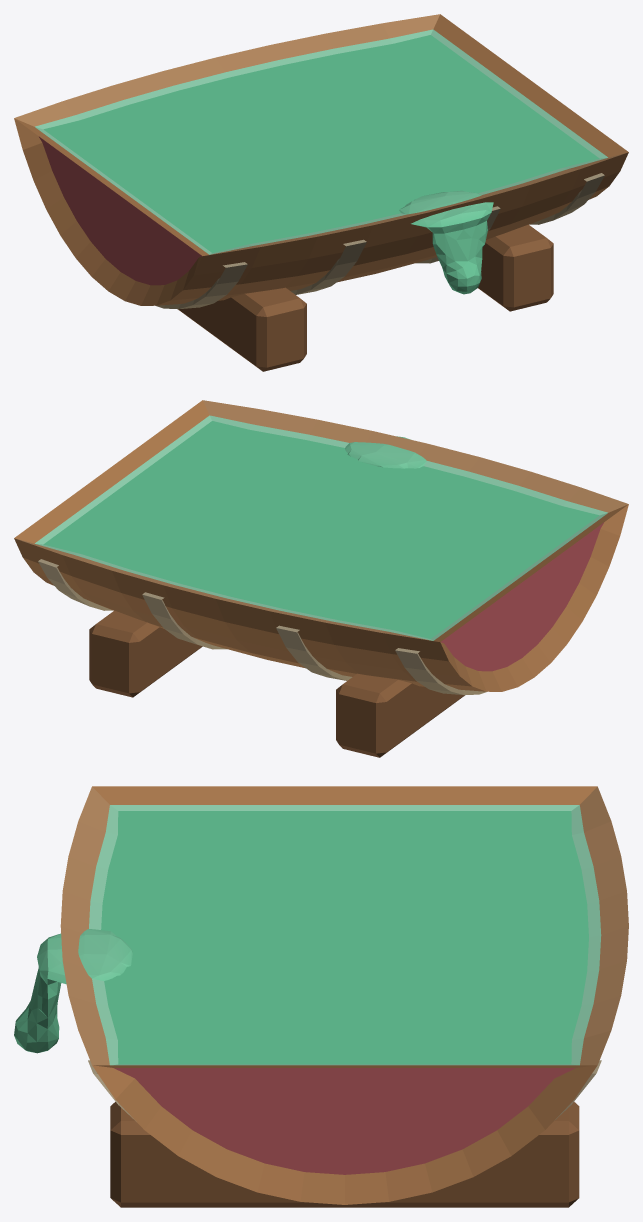
File: phoenix_pad_barrel_top.fbx
3 views of the same model, one above another, from view 1: azimuth 30°, elevation 25°; view 2: azimuth 150°, elevation 25°; view 3: azimuth 270°, elevation 25° (orthographic). The views are drawn at different scales.
Parts seen in each view (by area): view 1: phoenix_pad_barrel_top; view 2: phoenix_pad_barrel_top; view 3: phoenix_pad_barrel_top.
Part boxes in pixels (box(x1,y1,x2,y2)): phoenix_pad_barrel_top: box(14, 14, 628, 371); phoenix_pad_barrel_top: box(14, 400, 628, 757); phoenix_pad_barrel_top: box(14, 786, 628, 1207).
Size of the model in its own units: 7.6 by 2.4 by 7.08.
